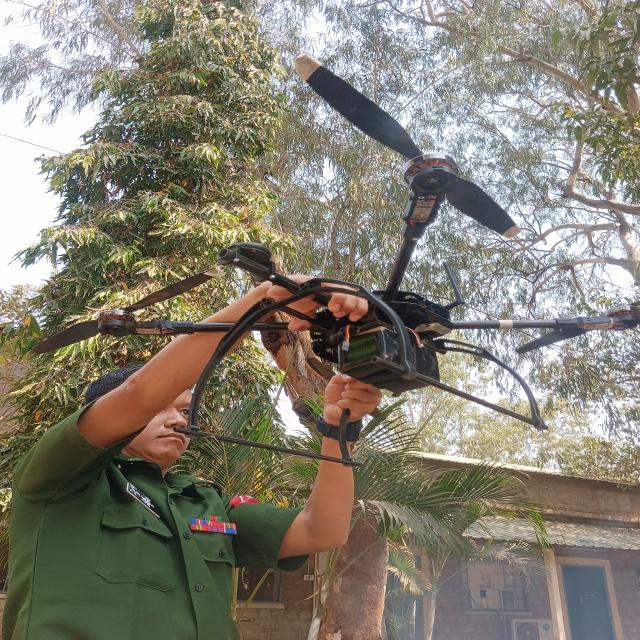drone: (34, 43, 640, 464)
